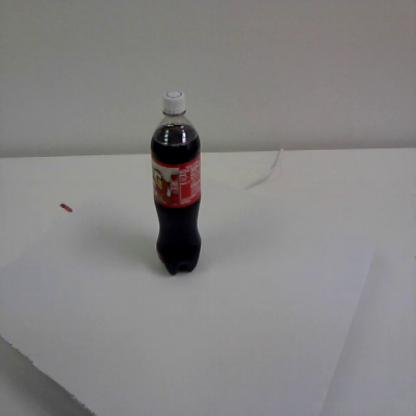bottle: (150, 88, 206, 276)
